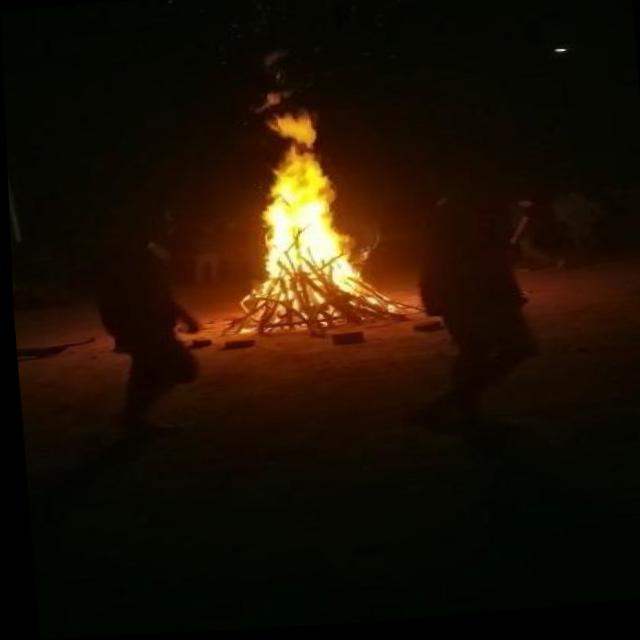fire: (205, 71, 388, 339)
